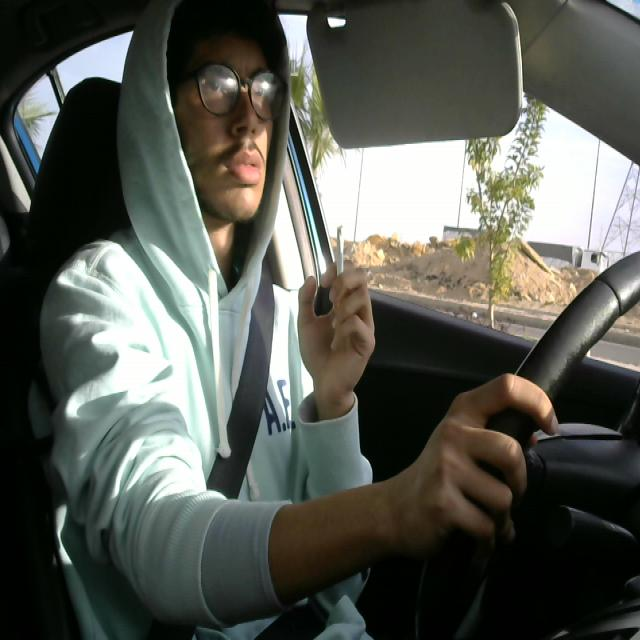smoking: (327, 222, 354, 312)
